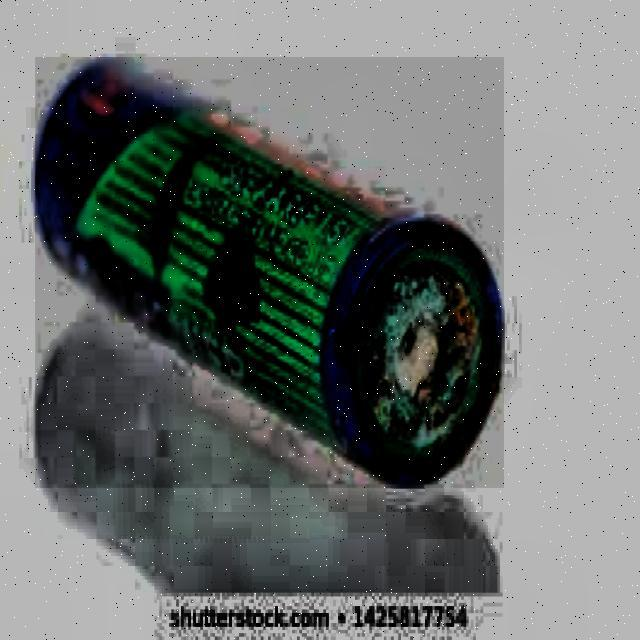B3: (21, 42, 526, 590)
